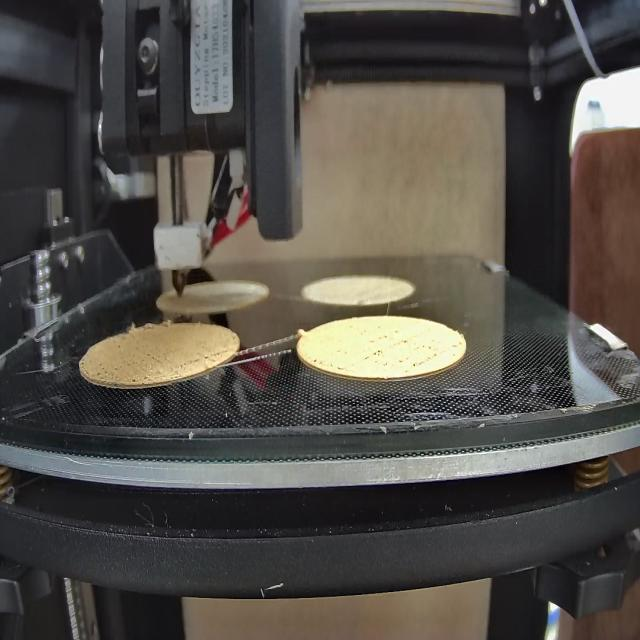under_extrusion: (365, 323, 438, 371), (98, 343, 164, 385), (180, 346, 229, 372), (312, 355, 343, 375)
